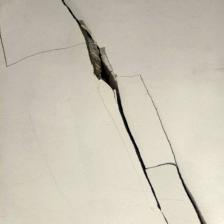Medium: (63, 14, 205, 219)
